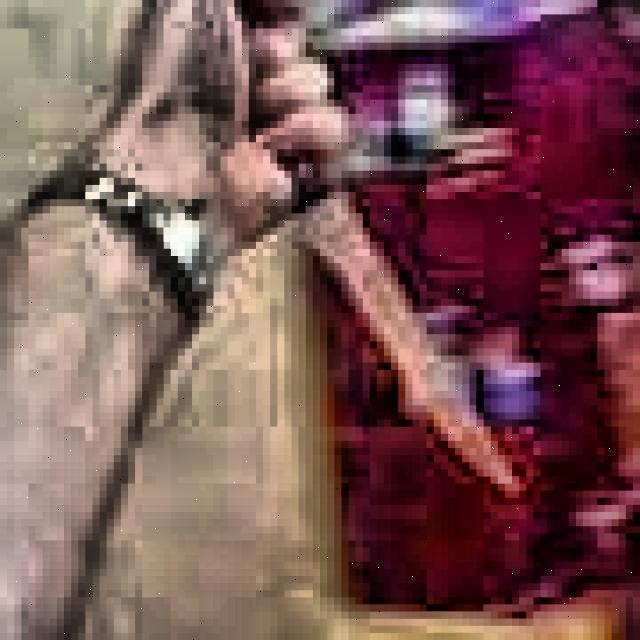knife: (284, 154, 526, 500)
